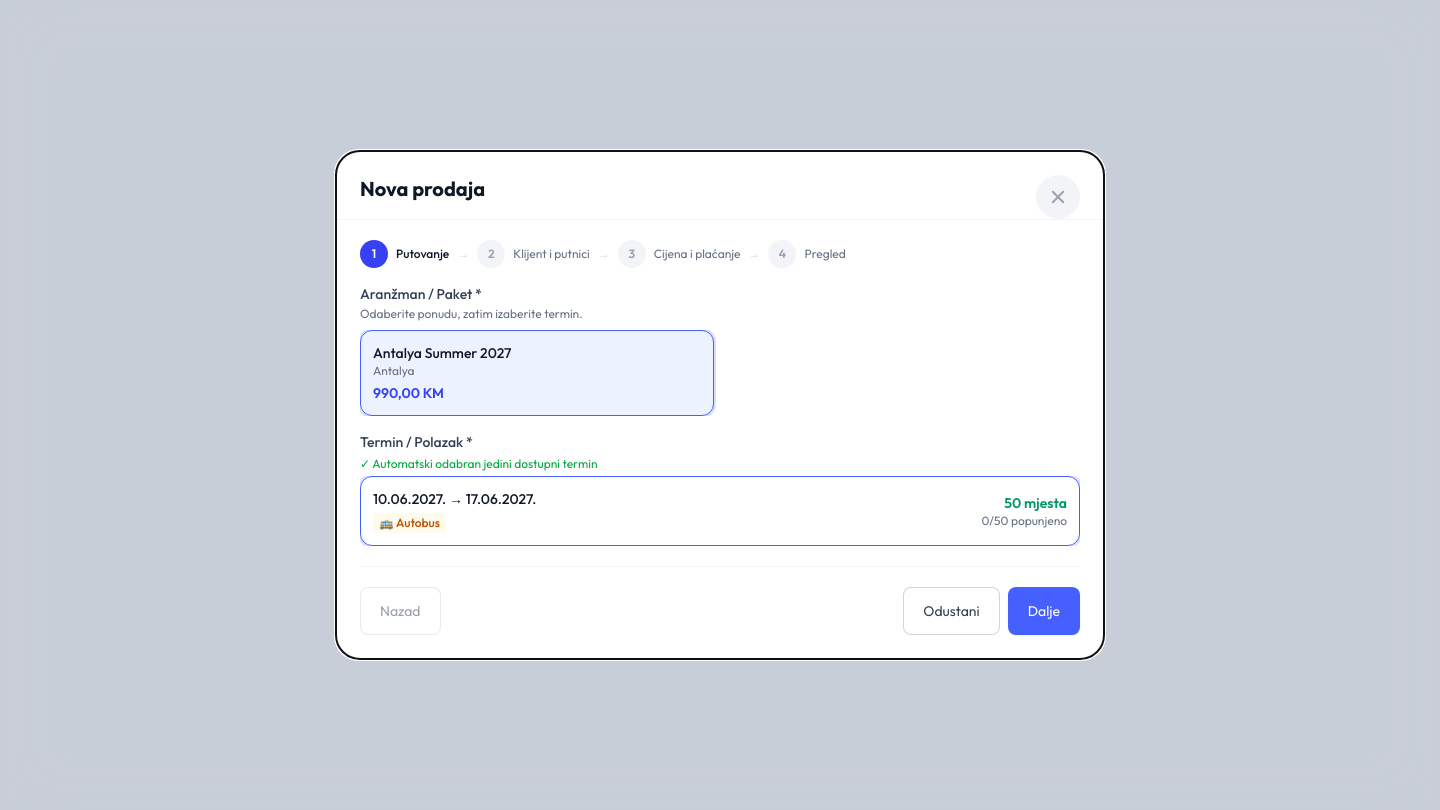
Scenario: NewSaleWizard — M03.1 step structure › departure without accommodation: Trip → Travelers → Payment → Review
The image size is (1440, 810).
Check: the text "Antalya Summer 2027" is shown, box x1=373 y1=344 x2=511 y2=362
Check: the text "Putovanje" is shown, box x1=396 y1=246 x2=449 y2=262
Trip → Travelers
Click the button "Dalje".
click(1044, 611)  # box x1=1008 y1=587 x2=1080 y2=635
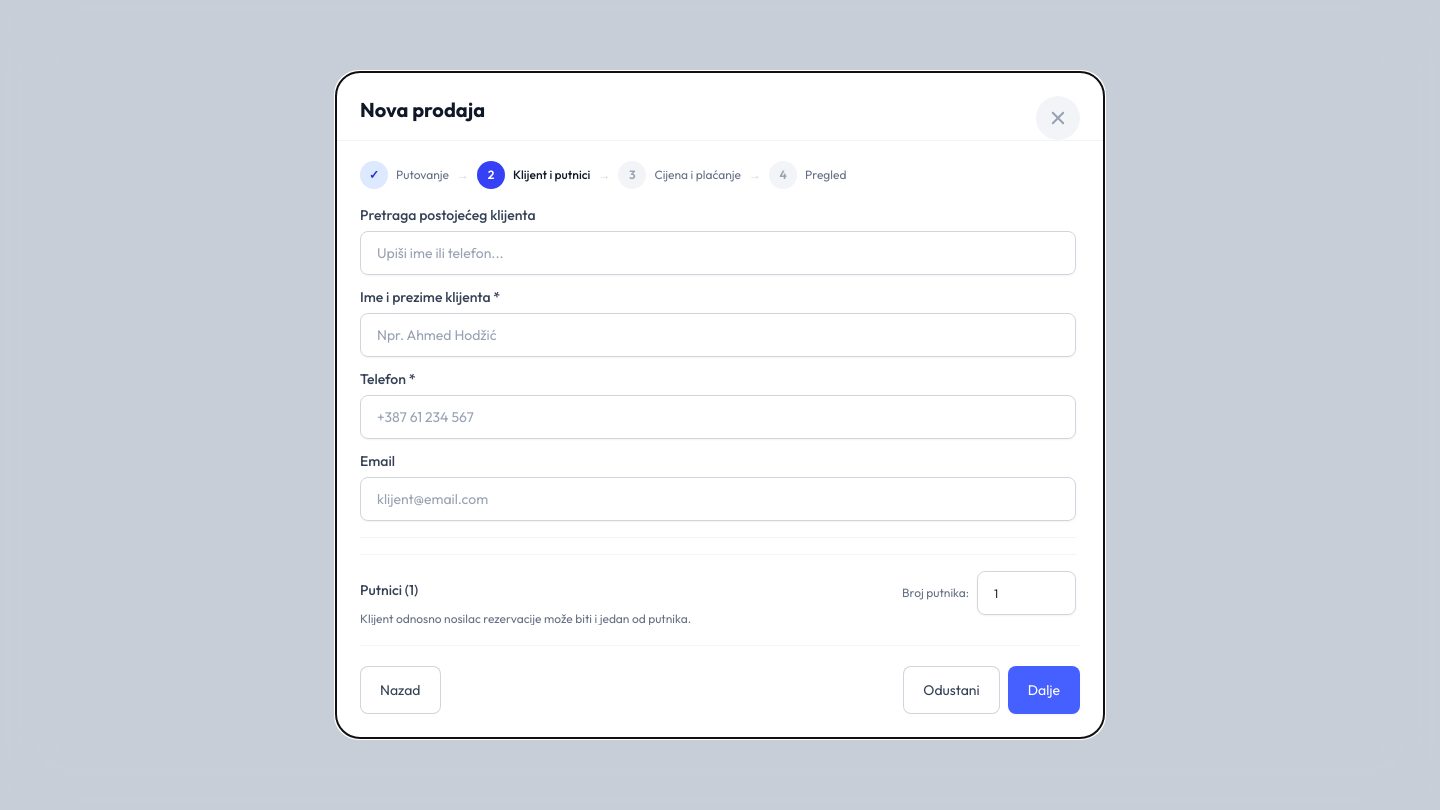
Check: the text "Ime i prezime klijenta *" is shown, box x1=360 y1=288 x2=500 y2=306
Travelers → Payment (skips accommodation)
Type "Amina Hadžić" into the field with placeholder "Npr. Ahmed Hodžić".
click(718, 335); type("Amina Hadžić")  # box x1=360 y1=313 x2=1076 y2=357
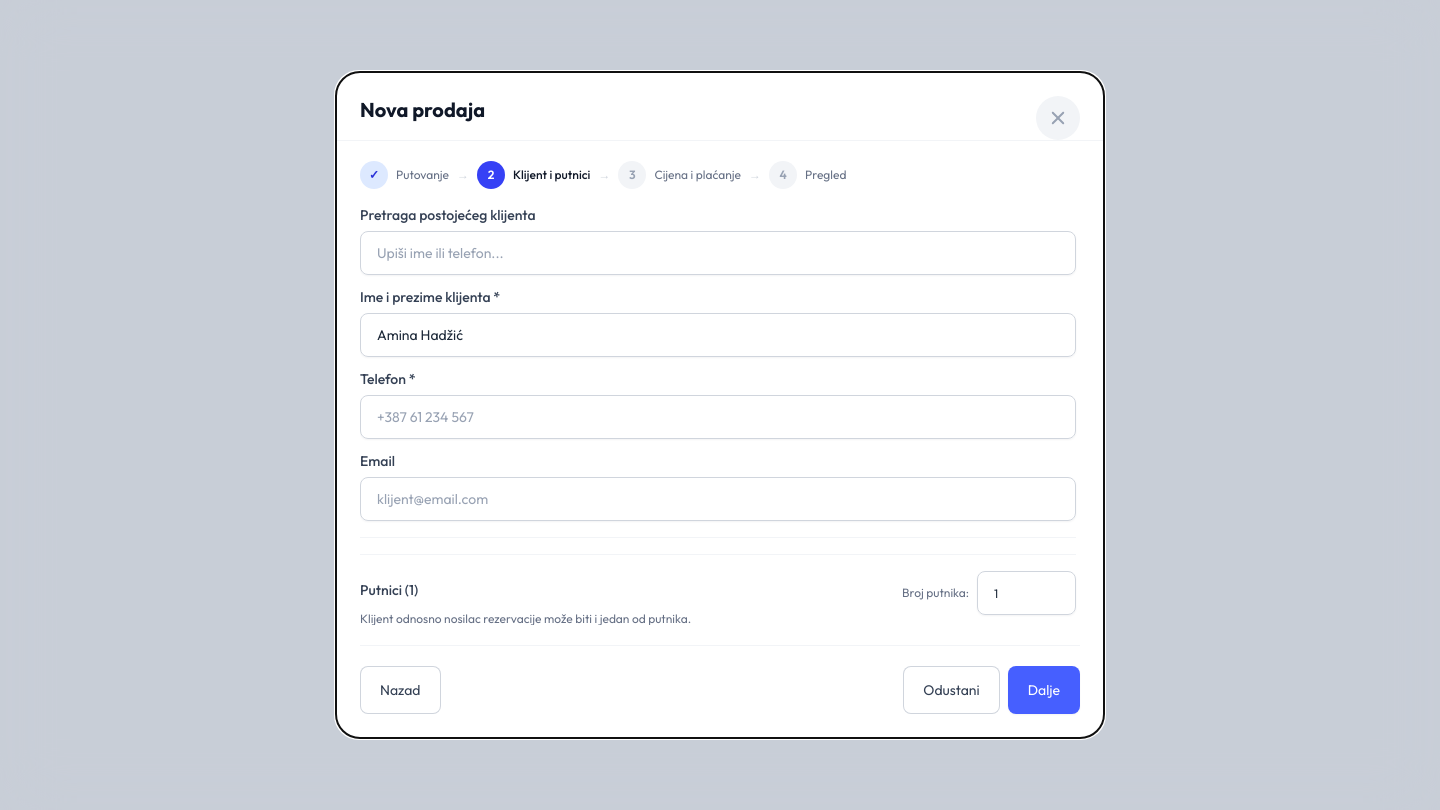
Type "+38761100001" into the field with placeholder "+387 61 234 567".
click(718, 417); type("+38761100001")  # box x1=360 y1=395 x2=1076 y2=439
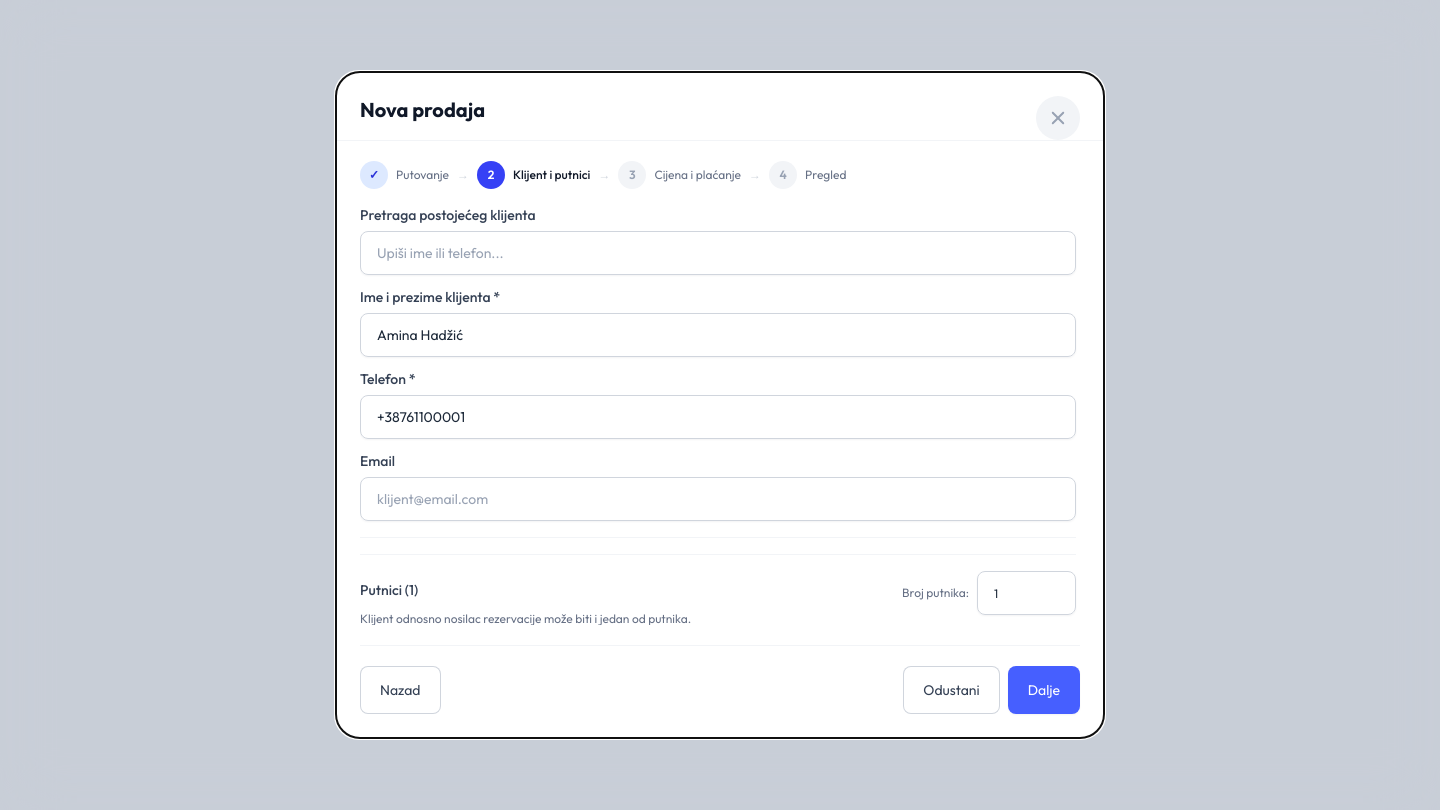
Click the button "Dalje".
click(1044, 690)  # box x1=1008 y1=666 x2=1080 y2=714
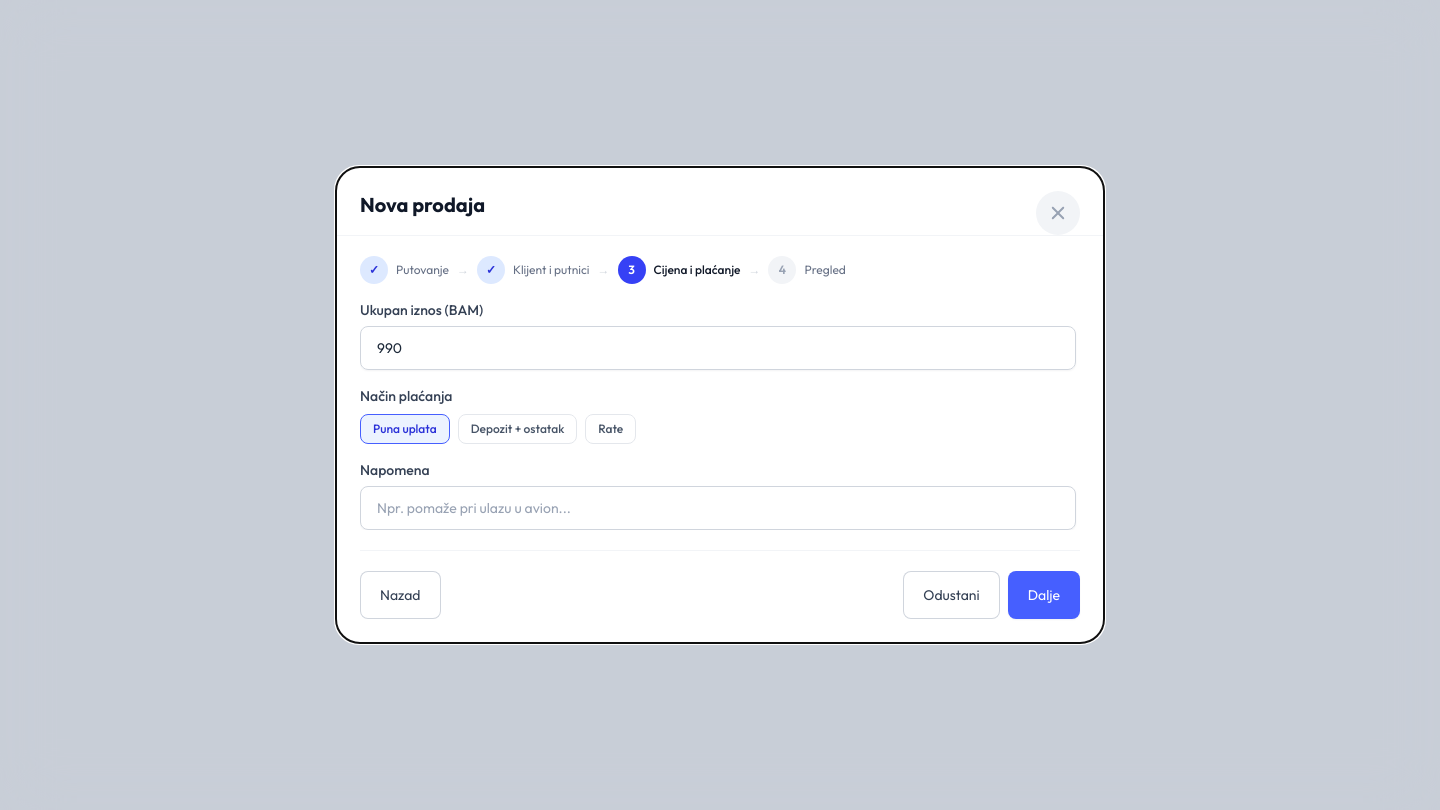
Check: the text "Ukupan iznos (BAM)" is shown, box x1=360 y1=301 x2=483 y2=319
